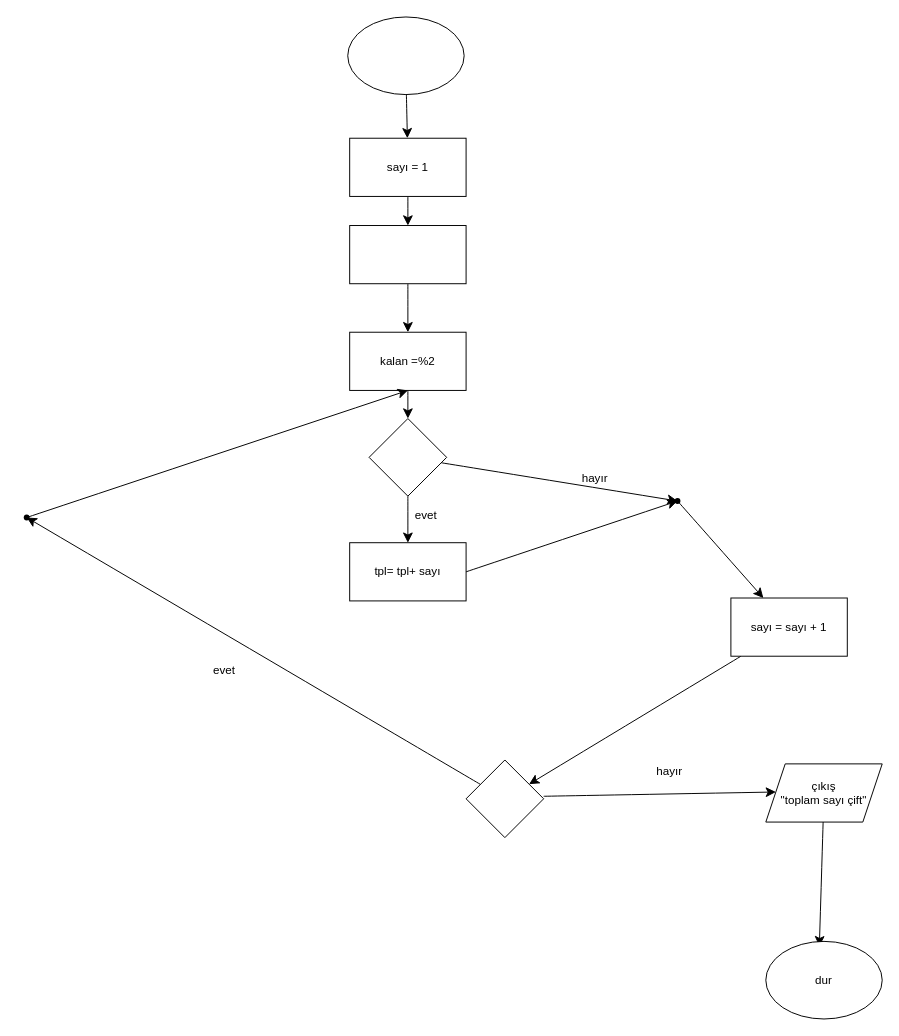
Image size: 899x1036. Some labels were removed from this diagram. Each missing label, with the box of its shape:
başla: (347, 16, 464, 95)
kalan=0: (368, 418, 447, 496)
tel = 0: (349, 225, 466, 284)
